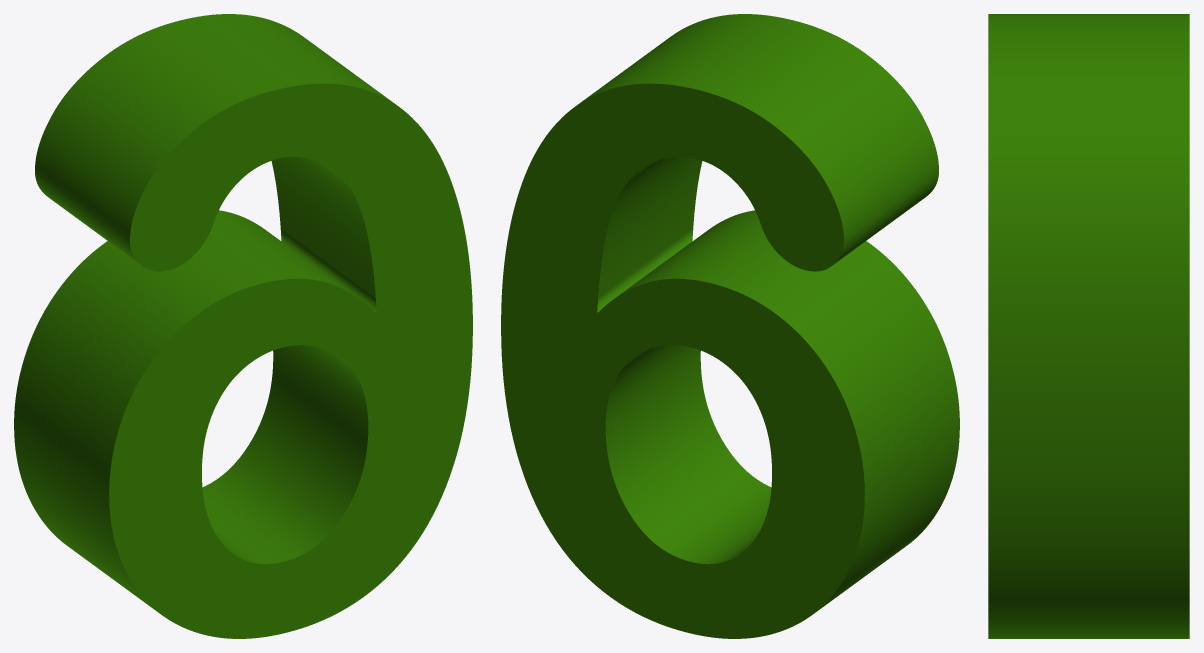
3 renders of one model, left to right at view 1: azimuth 30°, elevation 25°; view 2: azimuth 150°, elevation 25°; view 3: azimuth 270°, elevation 25°, orthographic. The views are drawn at different scales.
Visible parts, largest first — view 1: テキスト; view 2: テキスト; view 3: テキスト.
Part boxes in pixels (x1,y1,x2,y2): テキスト: (14, 14, 472, 638); テキスト: (501, 14, 959, 638); テキスト: (988, 14, 1189, 638).
Bounding box in the file's own units: 0.4418 × 0.6329 × 0.2.
